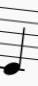LC: (1, 4, 27, 76)
